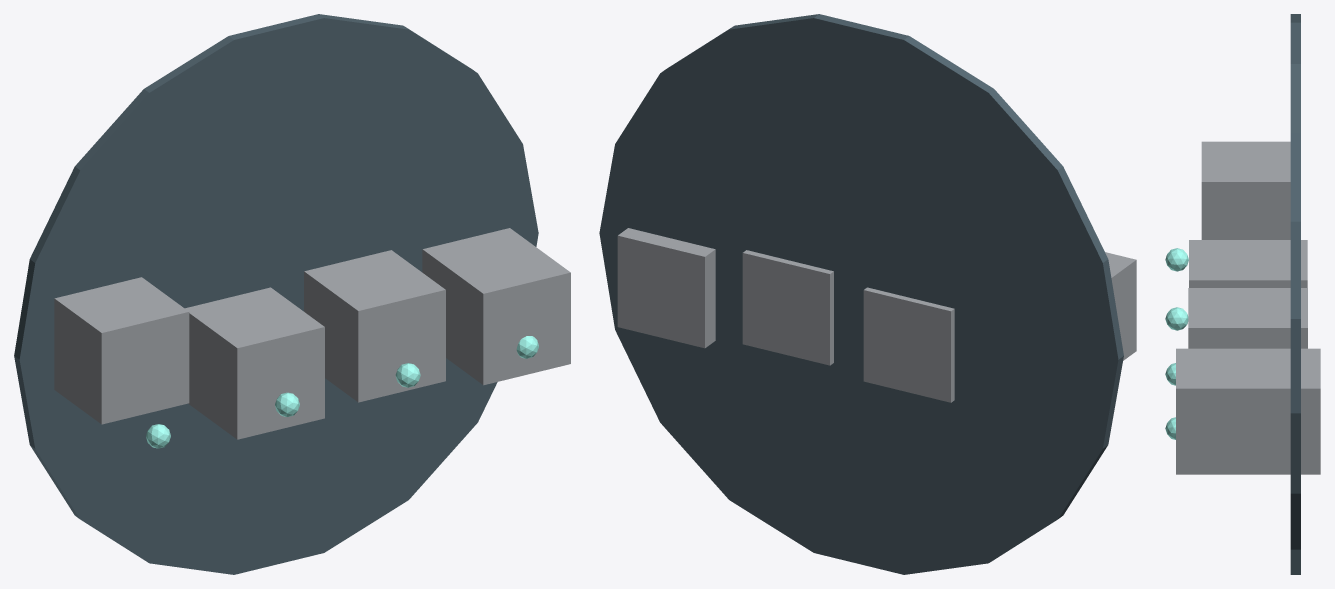
File: 02_local_prop_cluster.glb
3 renders of one model, left to right at view 1: azimuth 30°, elevation 25°; view 2: azimuth 150°, elevation 25°; view 3: azimuth 270°, elevation 25°, orthographic. The views are drawn at different scales.
Visible parts, largest first — view 1: scatter_base, tech_crate_3, tech_crate_1, tech_crate_0, tech_crate_2; view 2: scatter_base, tech_crate_3, tech_crate_2, tech_crate_1, tech_crate_0; view 3: tech_crate_3, tech_crate_0, tech_crate_2, scatter_base, tech_crate_1, status_light_1, status_light_0.
Part boxes in pixels (x1,y1,x2,y2): scatter_base: [14, 14, 538, 574]; tech_crate_3: [422, 228, 570, 385]; tech_crate_1: [185, 287, 324, 439]; tech_crate_0: [54, 277, 189, 424]; tech_crate_2: [304, 250, 445, 402]; scatter_base: [599, 14, 1123, 574]; tech_crate_3: [617, 228, 715, 348]; tech_crate_2: [742, 250, 833, 365]; tech_crate_1: [863, 287, 954, 402]; tech_crate_0: [1105, 252, 1136, 360]; tech_crate_3: [1176, 348, 1320, 474]; tech_crate_0: [1201, 141, 1290, 239]; tech_crate_2: [1188, 288, 1307, 348]; scatter_base: [1290, 14, 1300, 574]; tech_crate_1: [1189, 240, 1307, 287]; status_light_1: [1165, 307, 1188, 330]; status_light_0: [1165, 248, 1188, 271].
Bounding box in the file's own units: 1.9 × 1.87 × 0.5241.
